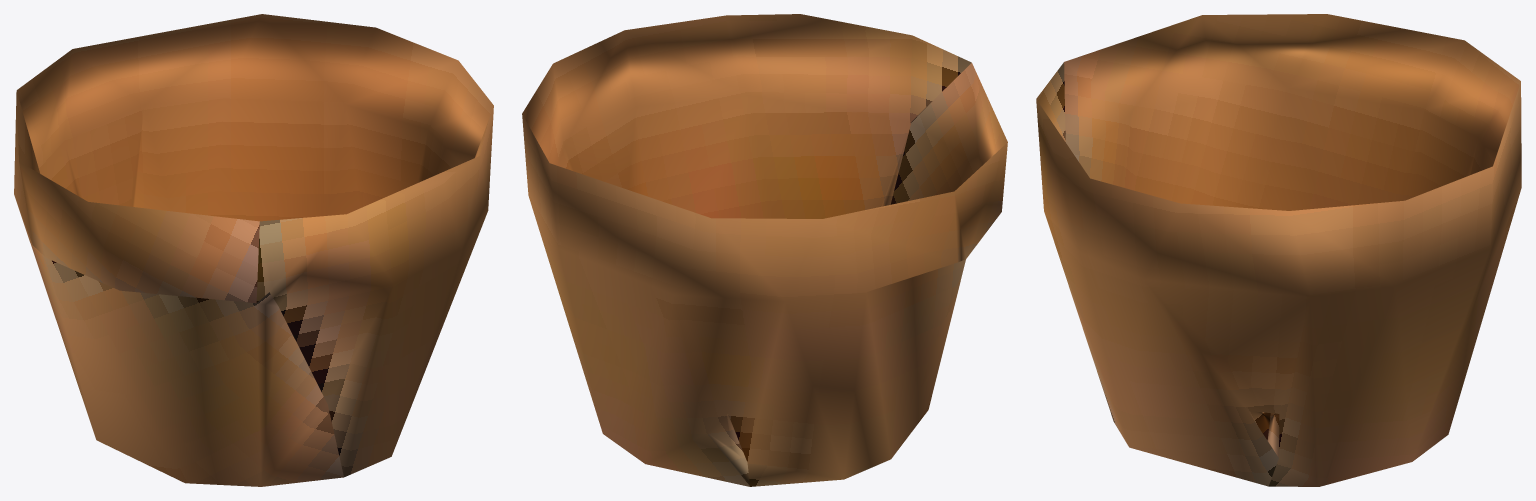
The model's file is Cole_Hardware_Orchid_Pot_85-low.glb.
3 renders of one model, left to right at view 1: azimuth 30°, elevation 25°; view 2: azimuth 150°, elevation 25°; view 3: azimuth 270°, elevation 25°, orthographic. The views are drawn at different scales.
Visible parts, largest first — view 1: Cole_Hardware_Orchid_Pot_85; view 2: Cole_Hardware_Orchid_Pot_85; view 3: Cole_Hardware_Orchid_Pot_85.
Boxes of the visible parts, left/top/right/bottom form: Cole_Hardware_Orchid_Pot_85: left=14, top=14, right=493, bottom=486; Cole_Hardware_Orchid_Pot_85: left=522, top=14, right=1007, bottom=486; Cole_Hardware_Orchid_Pot_85: left=1036, top=14, right=1521, bottom=486.
Size of the model in its own units: 0.2087 by 0.1466 by 0.2047.
Materials: 1 (1 with a texture image).
